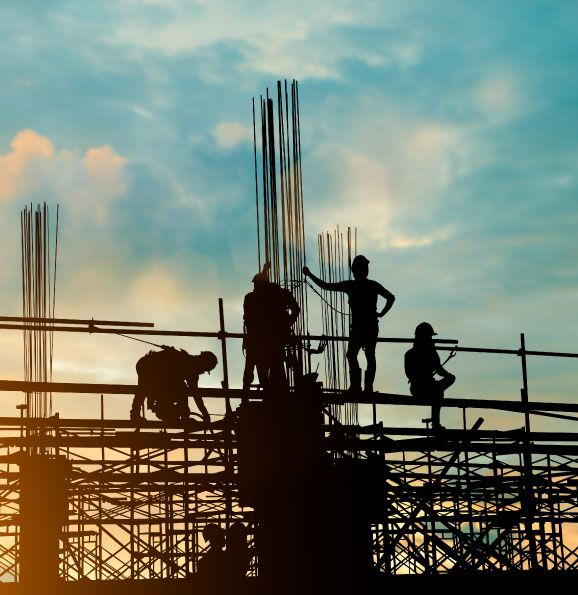hardhat: (344, 254, 378, 282), (197, 338, 217, 383), (412, 319, 443, 340)
person: (237, 257, 318, 428), (303, 253, 392, 408), (397, 310, 481, 462), (128, 325, 213, 428)
